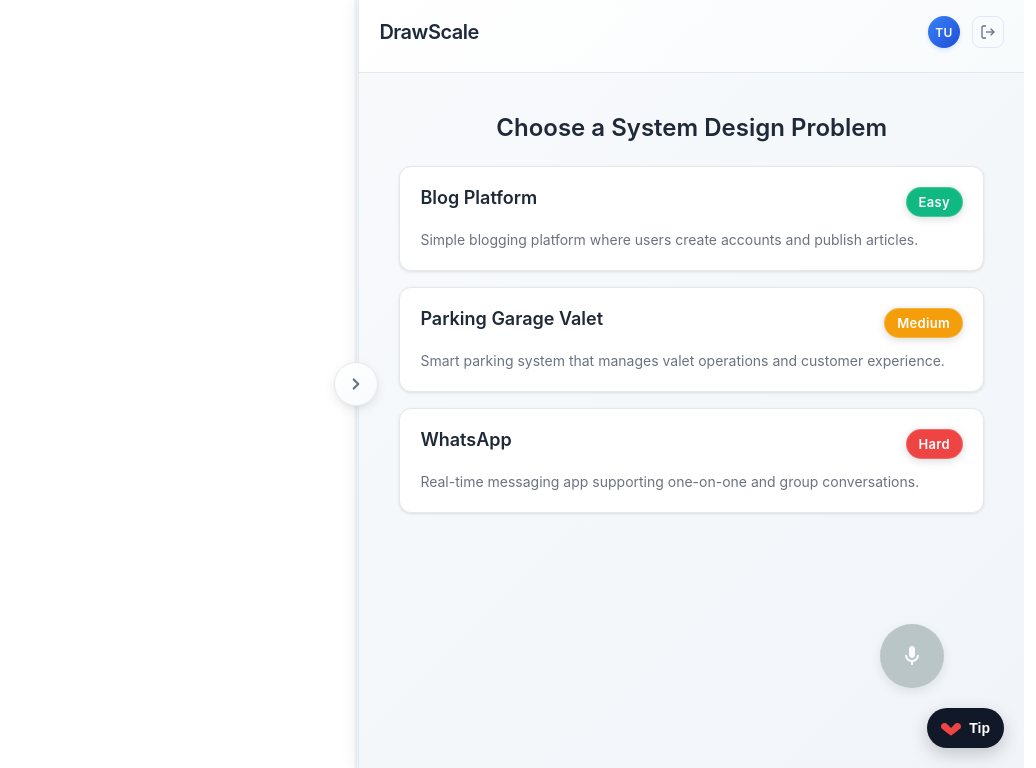
Test case: Component Interaction Tests › ProblemDrawer and DrawerToggle Integration › maintains state consistency between components
This screenshot has width=1036, height=768.
// Toggle drawer
Click the button named "instructions" at (356, 384), box [334,362,378,406]
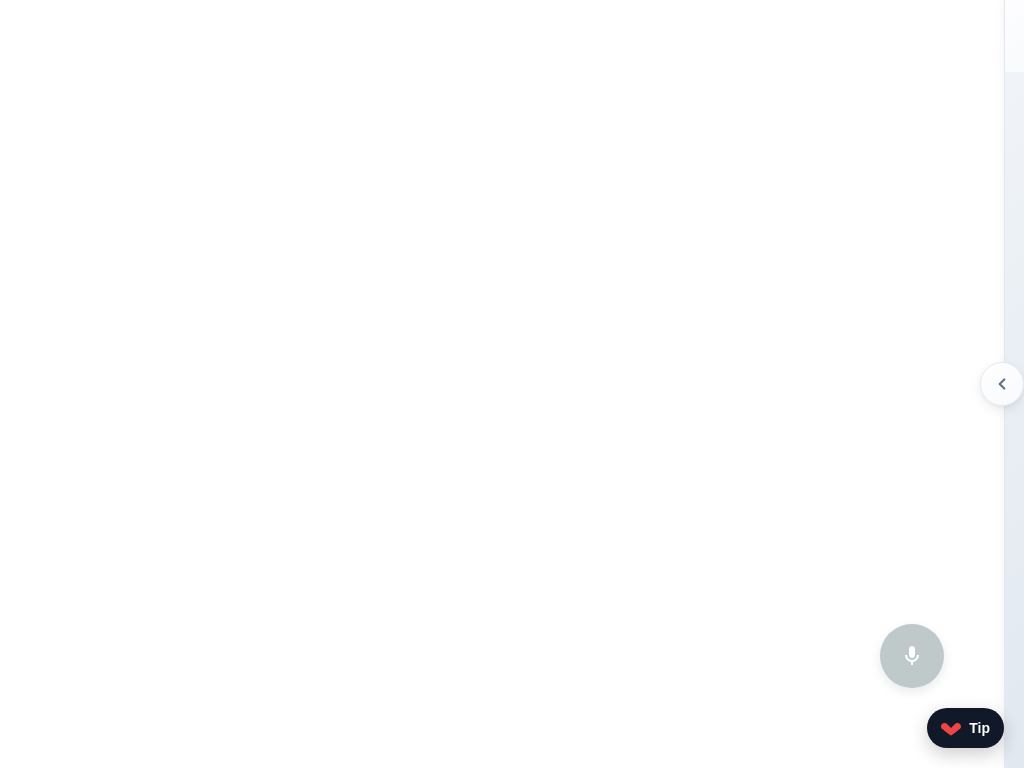
Expected: the button named "show instructions" is shown, [980,362,1024,406]
